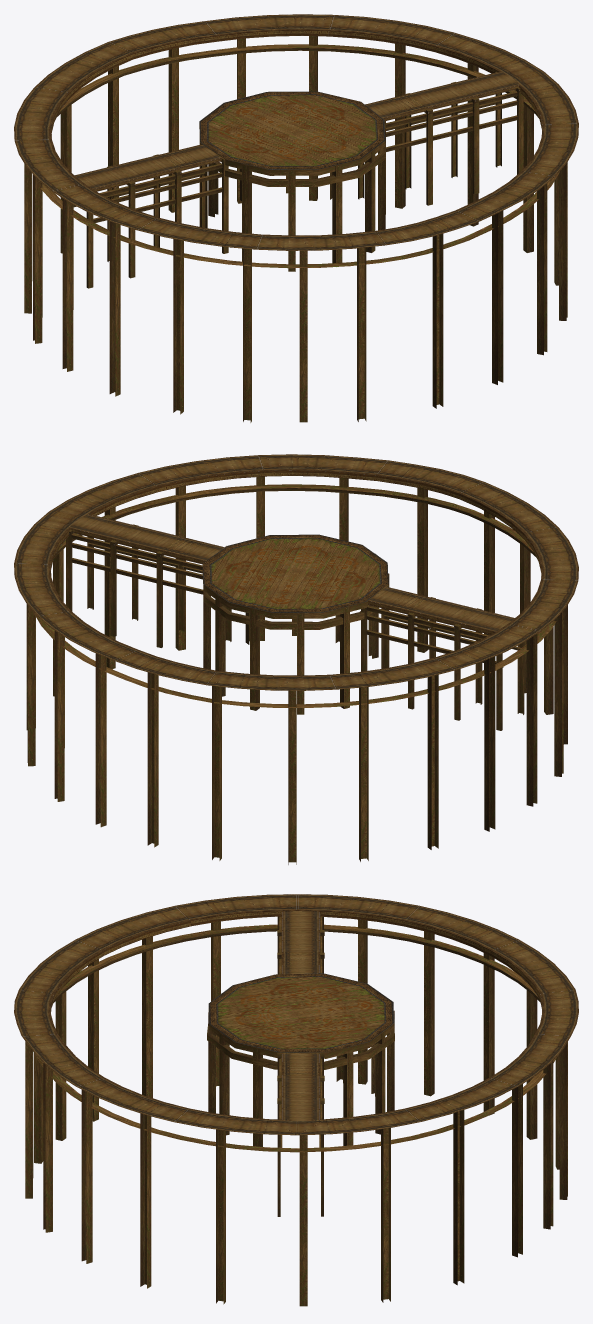
File: ss_taizi_1.FBX
3 views of the same model, one above another, from view 1: azimuth 30°, elevation 25°; view 2: azimuth 150°, elevation 25°; view 3: azimuth 270°, elevation 25° (orthographic).
Visible parts, largest first — view 1: ss_taizi_1; view 2: ss_taizi_1; view 3: ss_taizi_1.
Boxes of the visible parts, x1,y1,x2,y2 form: ss_taizi_1: (14,14,578,422); ss_taizi_1: (14,454,578,864); ss_taizi_1: (14,894,578,1306).
Size of the model in its own units: 7651 by 7592 by 2659.
Materials: 1 (1 with a texture image).
